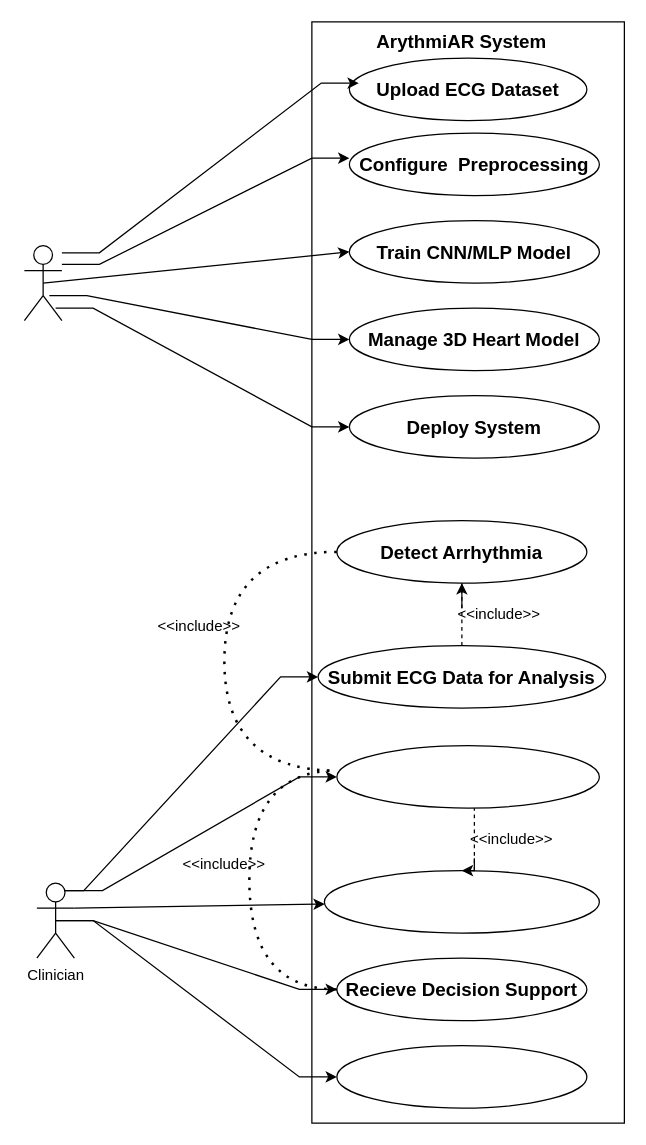
Some shapes in this 646 by 1145 pixel diagram are drawn without their labels. The centre of each missing label's shape, as x and y in pixels:
"Admin" belongs at (x=42, y=282).
"Capture ECG Signals" belongs at (x=461, y=1076).
"View Classification Results" belongs at (x=467, y=776).
"Visualize 3D Heart using AR" belongs at (x=461, y=901).
